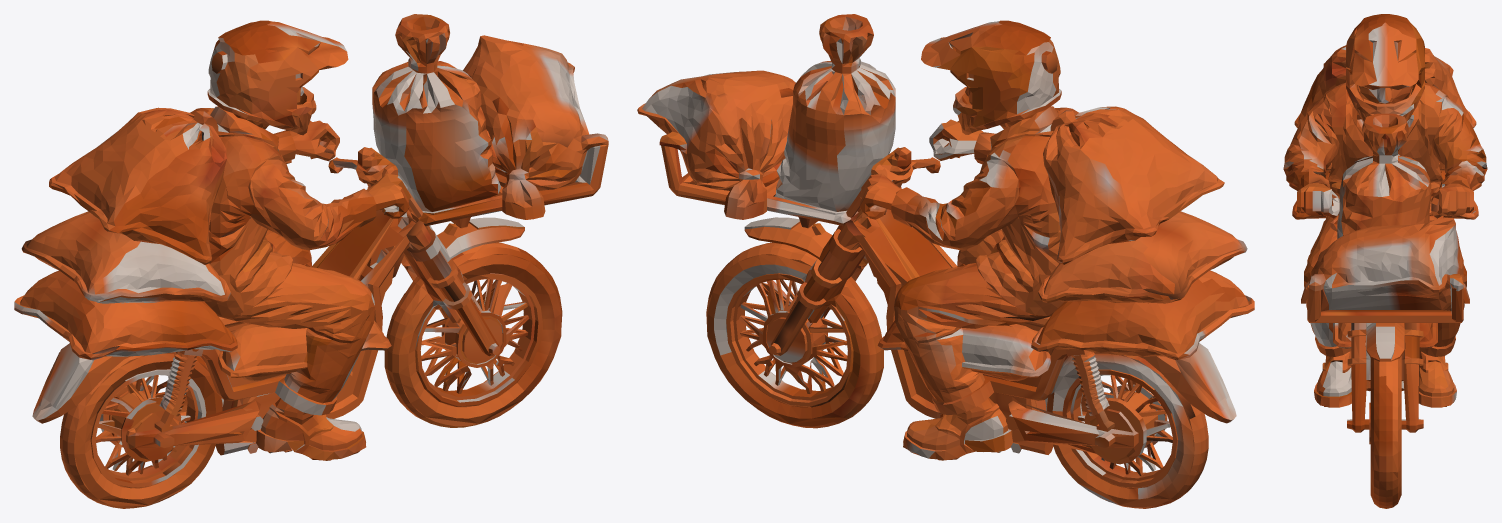
The model's file is motor balap2.obj.
The picture shows the model from 3 angles, left to right: view 1: azimuth 30°, elevation 25°; view 2: azimuth 150°, elevation 25°; view 3: azimuth 270°, elevation 25°; orthographic projection. The views are drawn at different scales.
Parts seen in each view (by area): view 1: texture_pbr_v128; view 2: texture_pbr_v128; view 3: texture_pbr_v128.
Boxes of the visible parts, x1,y1,x2,y2 form: texture_pbr_v128: [14, 14, 608, 508]; texture_pbr_v128: [637, 14, 1254, 508]; texture_pbr_v128: [1283, 14, 1487, 508].
Size of the model in its own units: 1.12 by 0.8508 by 0.4022.
